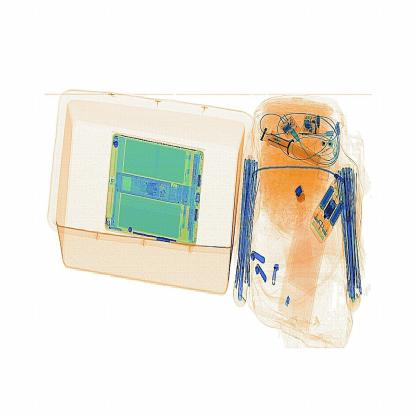wrench: (292, 183, 310, 214)
